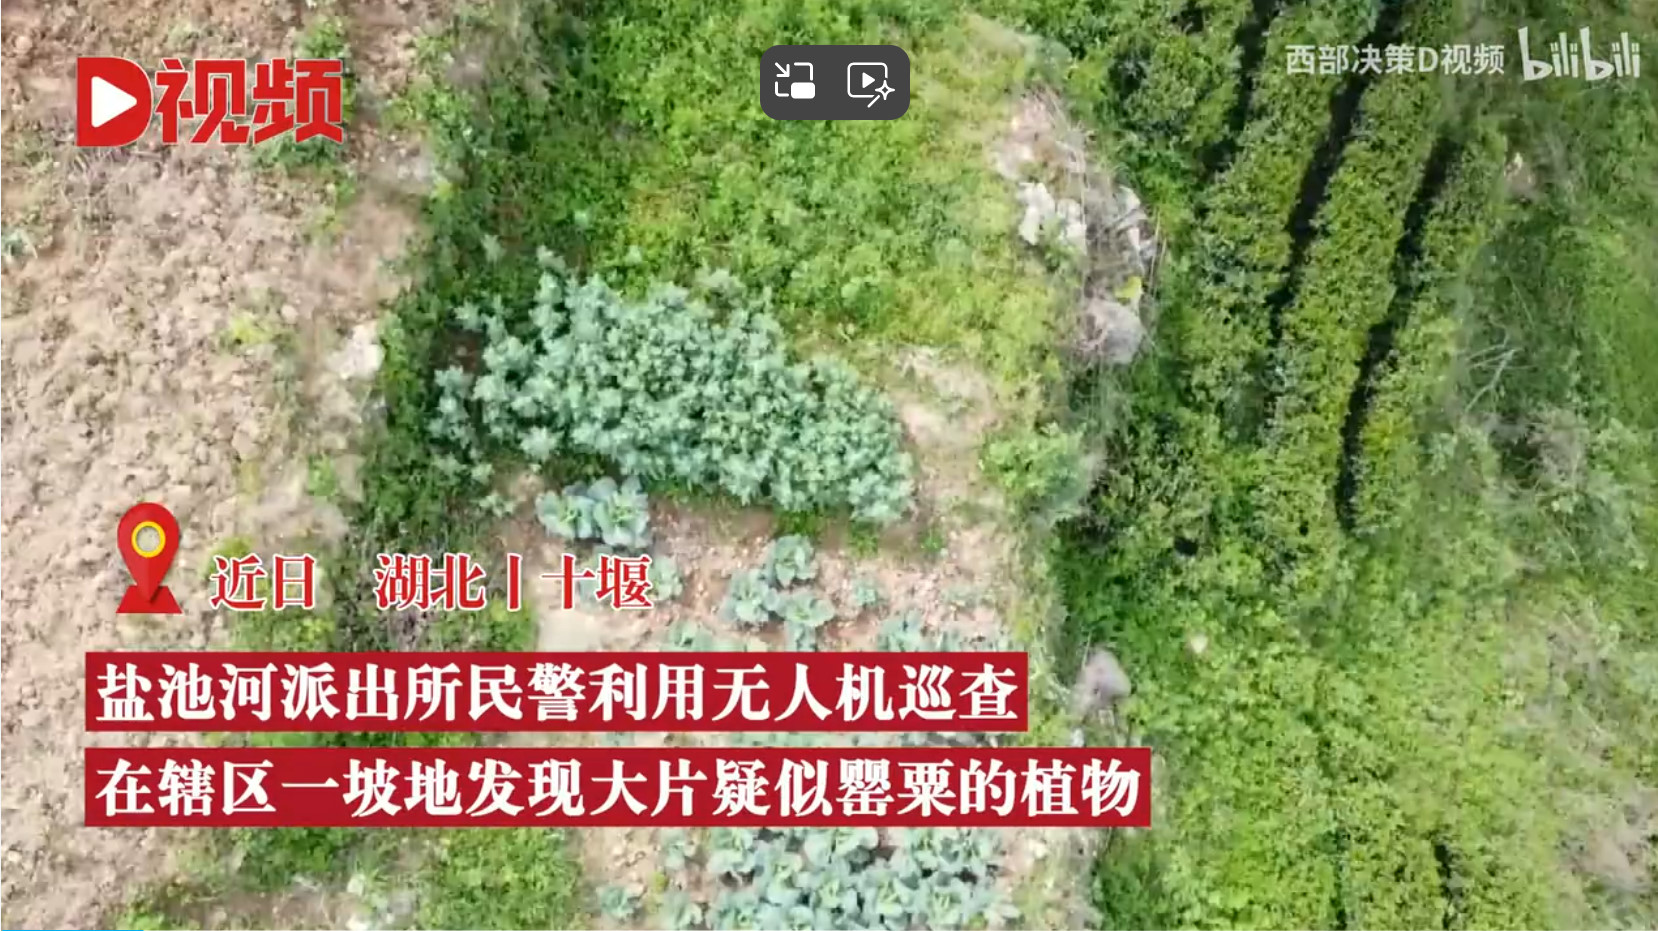Poppy: (440, 230, 963, 551), (637, 534, 1018, 651), (621, 827, 1013, 931)
